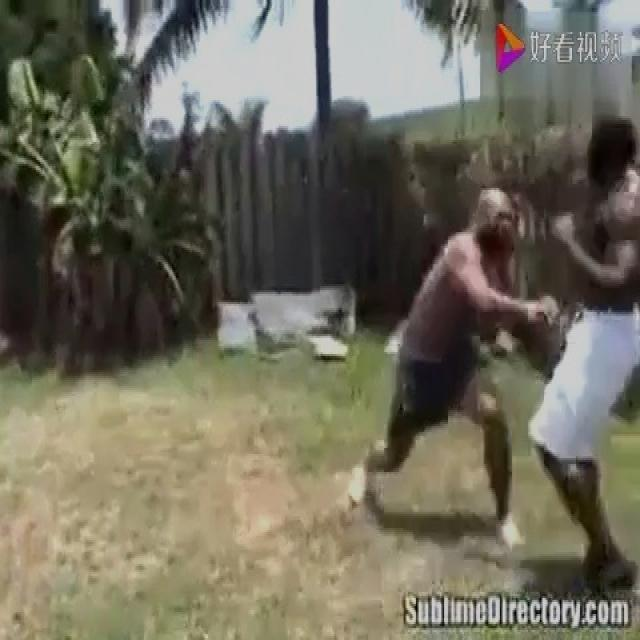fight: (326, 100, 638, 594)
